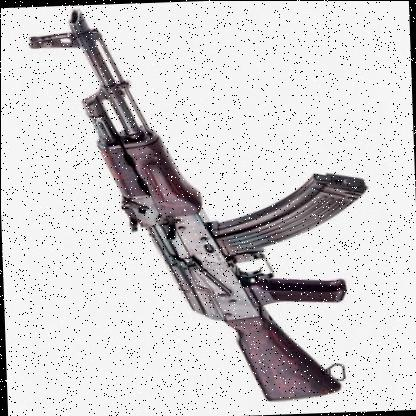rifle: (62, 1, 378, 405)
